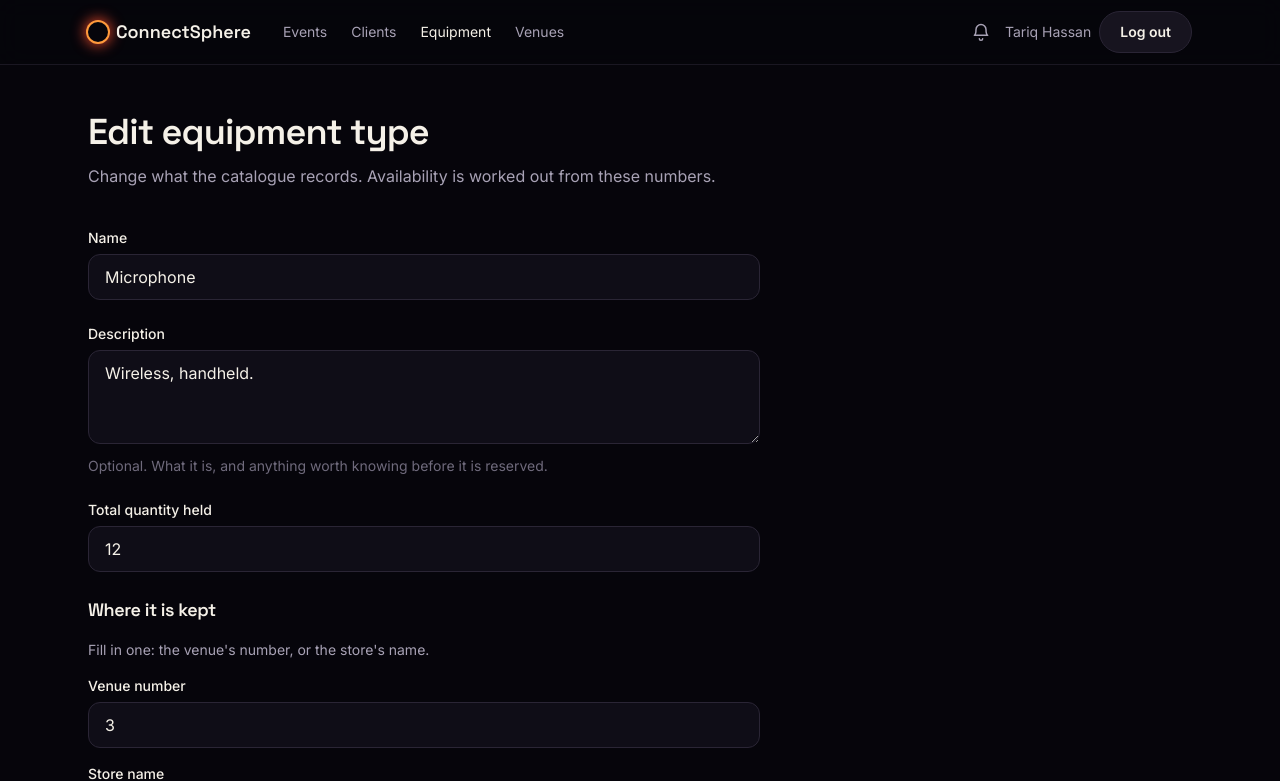
Test: SCRUM-27 editing an equipment type › shows the backend's message for another type's name
Replace the text in the field labelled "Name" with "Projector" at point(424, 277), box [88,254,760,300]
(page scrolled)
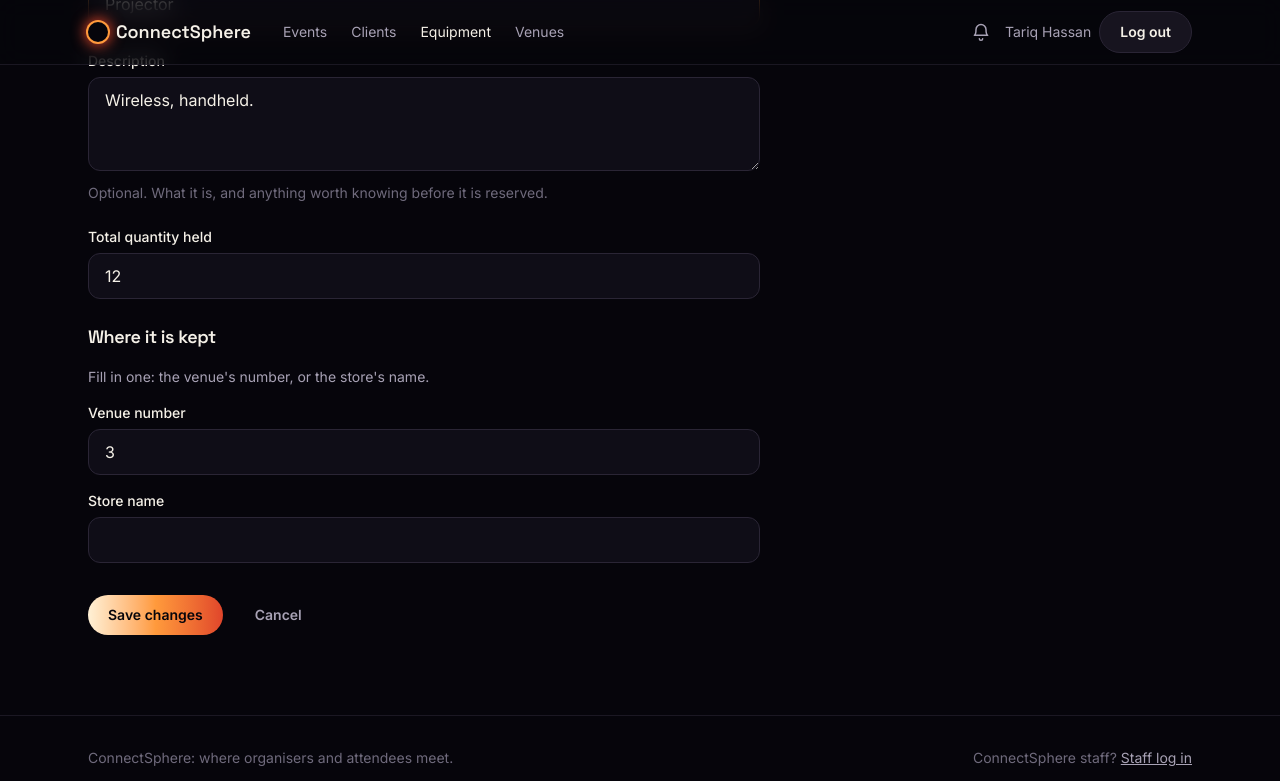
Click the button "Save changes" at point(155, 615), box [88,595,223,635]
(page scrolled)
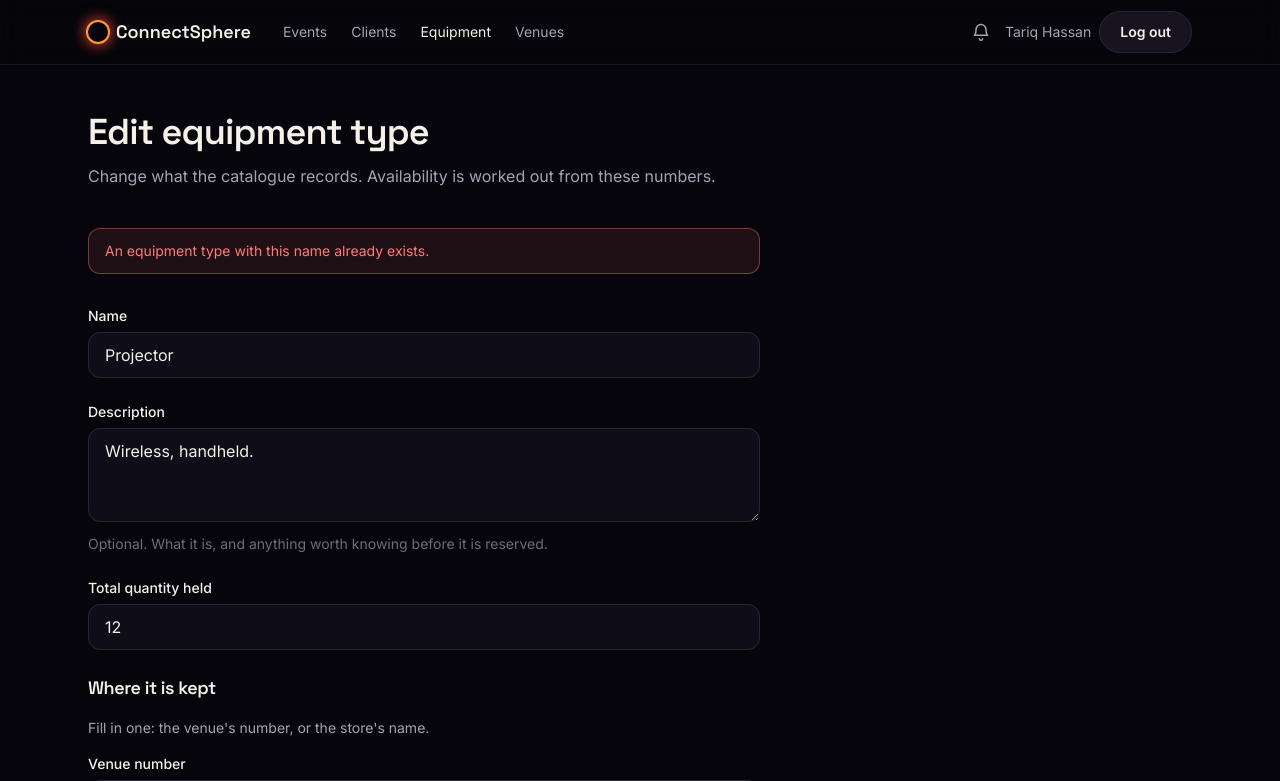
Check: the message reads "An equipment type with this name already exists.", box [105,242,429,259]
